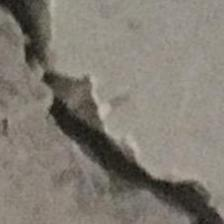Crack: (0, 0, 219, 224)
